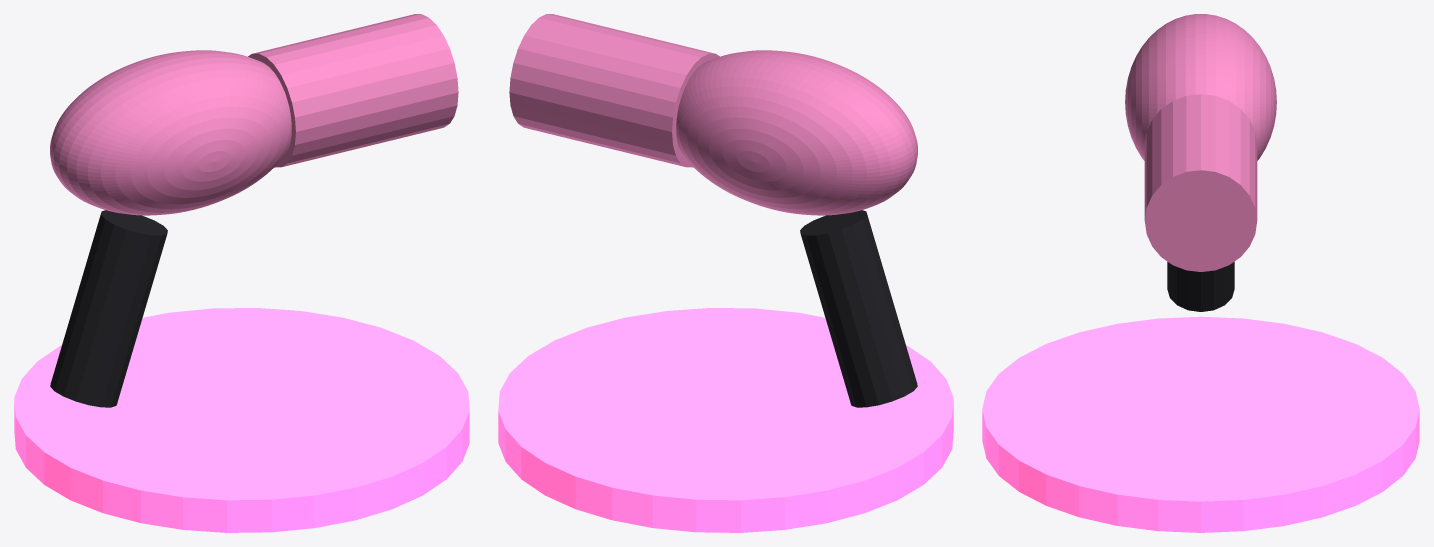
File: beauty_hair_dryer.glb
The picture shows the model from 3 angles, left to right: view 1: azimuth 30°, elevation 25°; view 2: azimuth 150°, elevation 25°; view 3: azimuth 270°, elevation 25°; orthographic projection. The views are drawn at different scales.
Parts seen in each view (by area): view 1: 03_16_Popular_Beauty_Hair_Dryer_ROOT_base, 03_16_Popular_Beauty_Hair_Dryer_part_01, 03_16_Popular_Beauty_Hair_Dryer_part_02, 03_16_Popular_Beauty_Hair_Dryer_part_03; view 2: 03_16_Popular_Beauty_Hair_Dryer_ROOT_base, 03_16_Popular_Beauty_Hair_Dryer_part_01, 03_16_Popular_Beauty_Hair_Dryer_part_02, 03_16_Popular_Beauty_Hair_Dryer_part_03; view 3: 03_16_Popular_Beauty_Hair_Dryer_ROOT_base, 03_16_Popular_Beauty_Hair_Dryer_part_02, 03_16_Popular_Beauty_Hair_Dryer_part_01, 03_16_Popular_Beauty_Hair_Dryer_part_03.
Boxes of the visible parts, x1,y1,x2,y2 form: 03_16_Popular_Beauty_Hair_Dryer_ROOT_base: (14,308,469,532); 03_16_Popular_Beauty_Hair_Dryer_part_01: (50,50,291,215); 03_16_Popular_Beauty_Hair_Dryer_part_02: (248,14,458,167); 03_16_Popular_Beauty_Hair_Dryer_part_03: (50,210,167,407); 03_16_Popular_Beauty_Hair_Dryer_ROOT_base: (498,308,953,532); 03_16_Popular_Beauty_Hair_Dryer_part_01: (676,50,917,215); 03_16_Popular_Beauty_Hair_Dryer_part_02: (509,14,719,167); 03_16_Popular_Beauty_Hair_Dryer_part_03: (800,210,917,407); 03_16_Popular_Beauty_Hair_Dryer_ROOT_base: (982,316,1419,532); 03_16_Popular_Beauty_Hair_Dryer_part_02: (1144,94,1257,271); 03_16_Popular_Beauty_Hair_Dryer_part_01: (1125,14,1276,160); 03_16_Popular_Beauty_Hair_Dryer_part_03: (1167,261,1234,311).
Size of the model in its own units: 0.76 by 0.7198 by 0.76.
